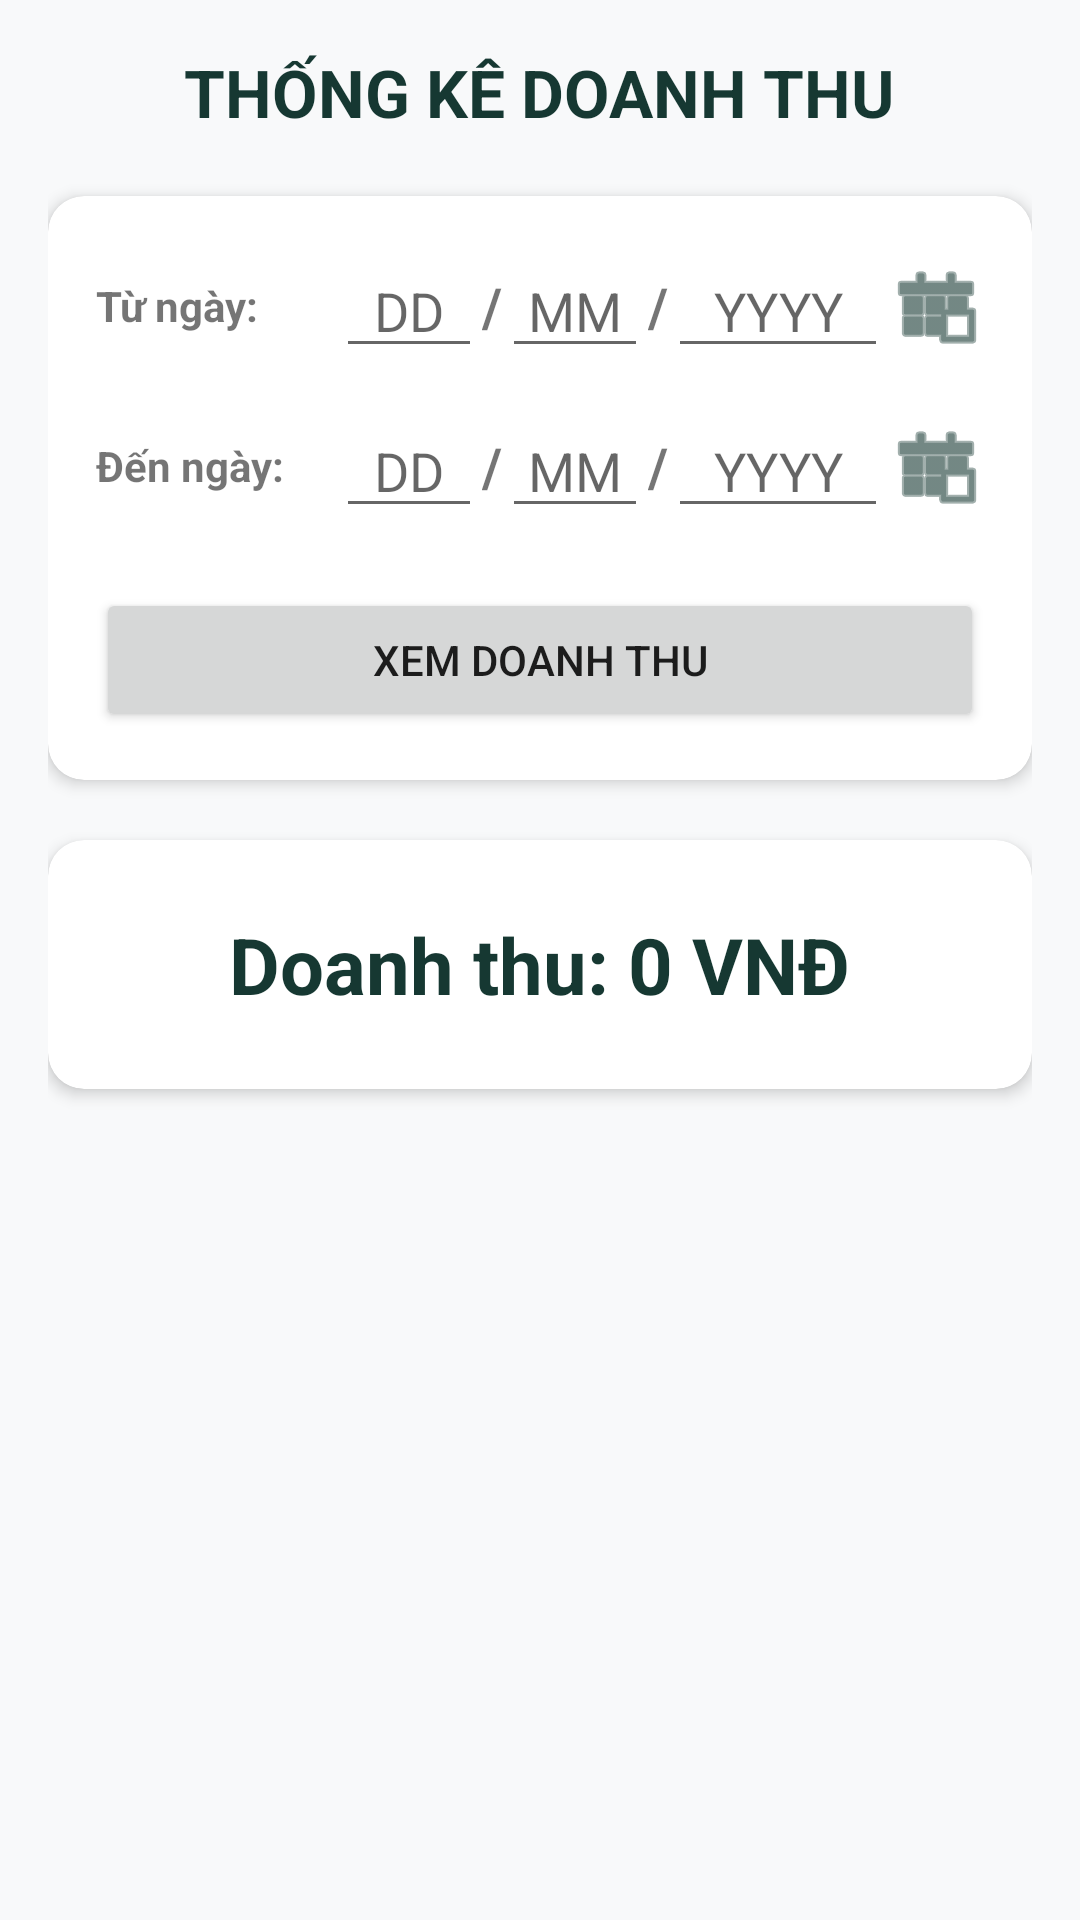

Named icons in this screenshot (1080x1920) and their centers, point (x, y):
Chọn ngày bắt đầu: point (937, 307)
Chọn ngày kết thúc: point (937, 467)
